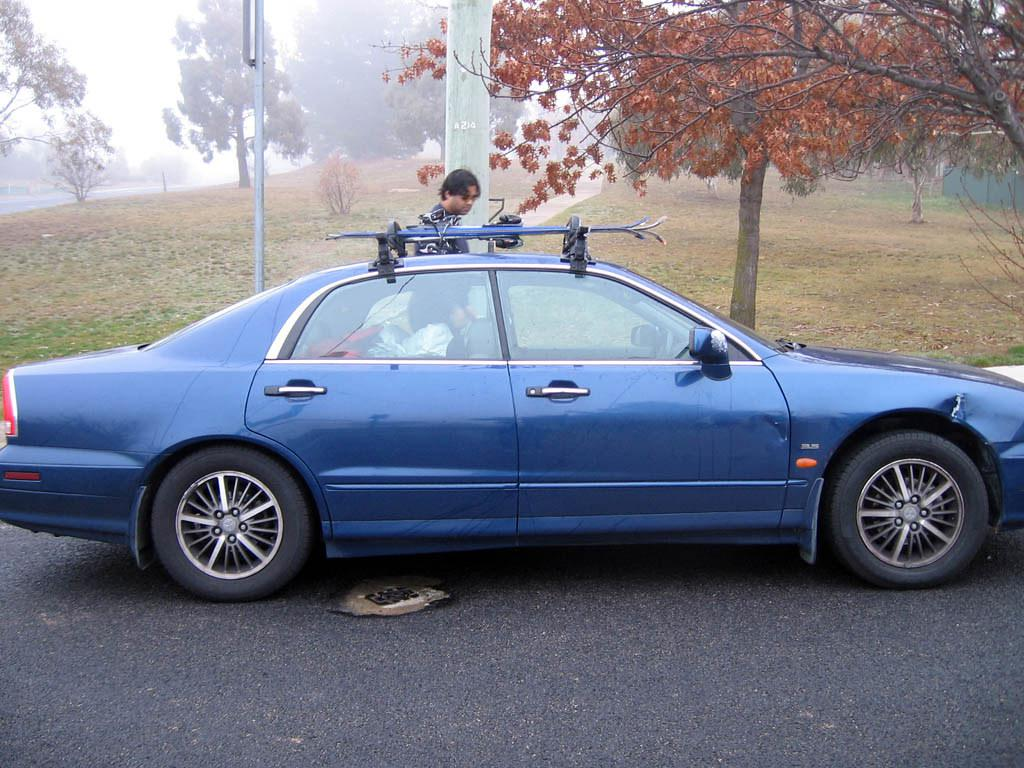fender-dent: (787, 362, 1018, 446)
